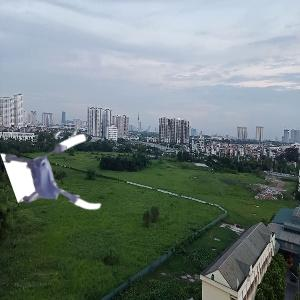drone: (14, 135, 106, 227)
